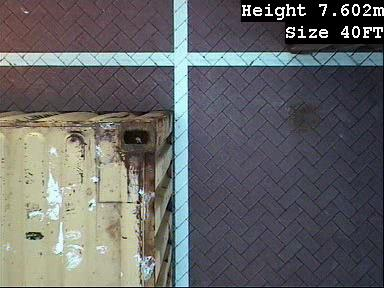groundmarker_2: (13, 1, 117, 127)
